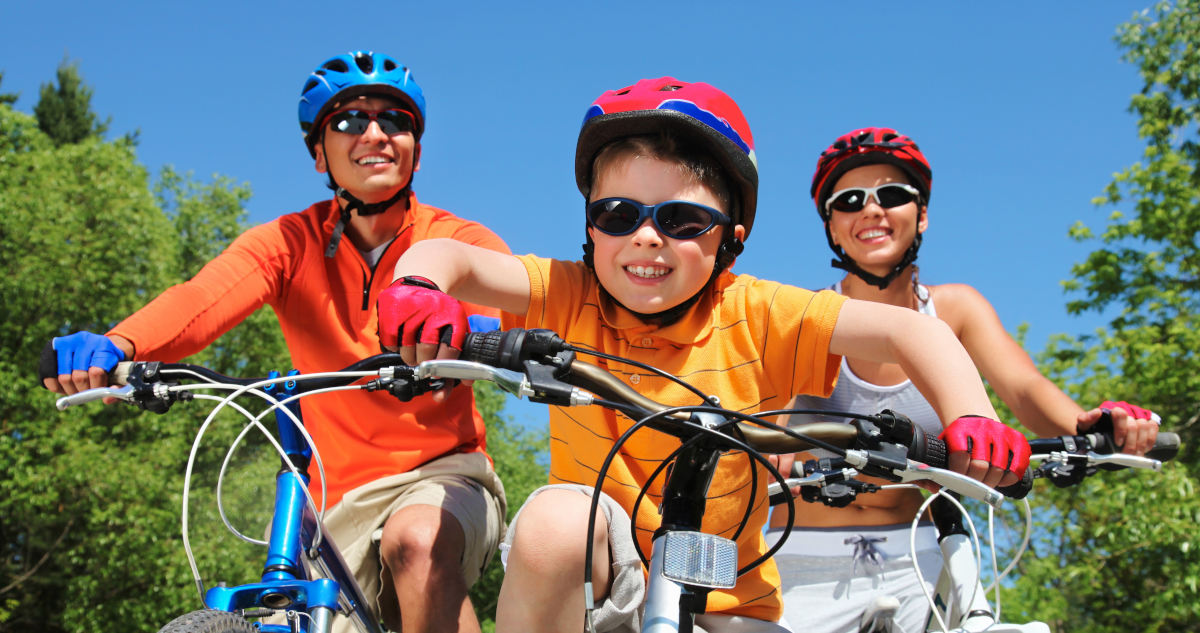helmet: (574, 76, 759, 314), (298, 51, 427, 191), (810, 127, 933, 264)
